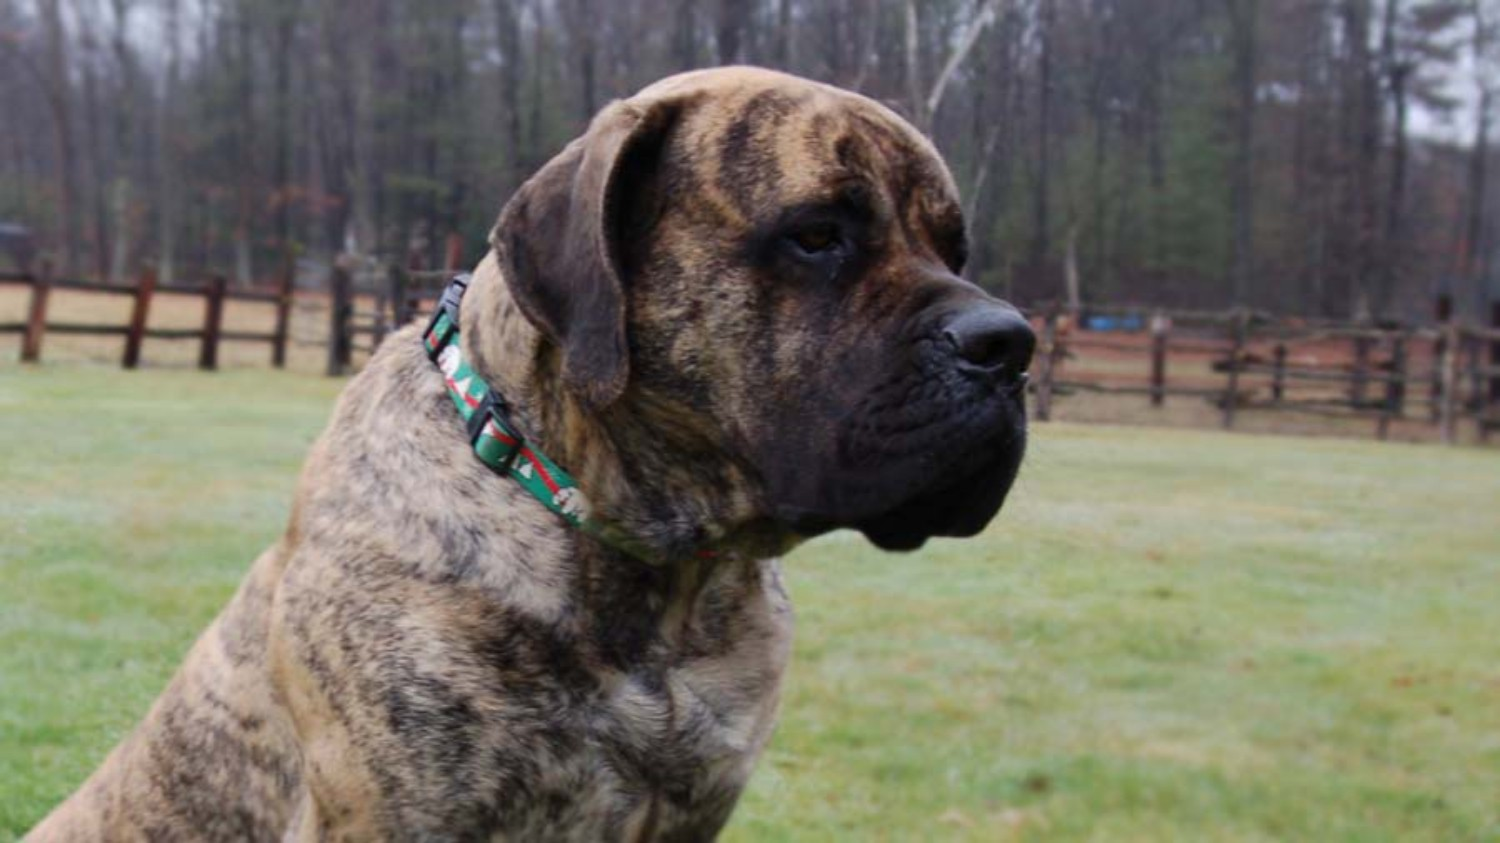mastiff: (9, 68, 1030, 843)
